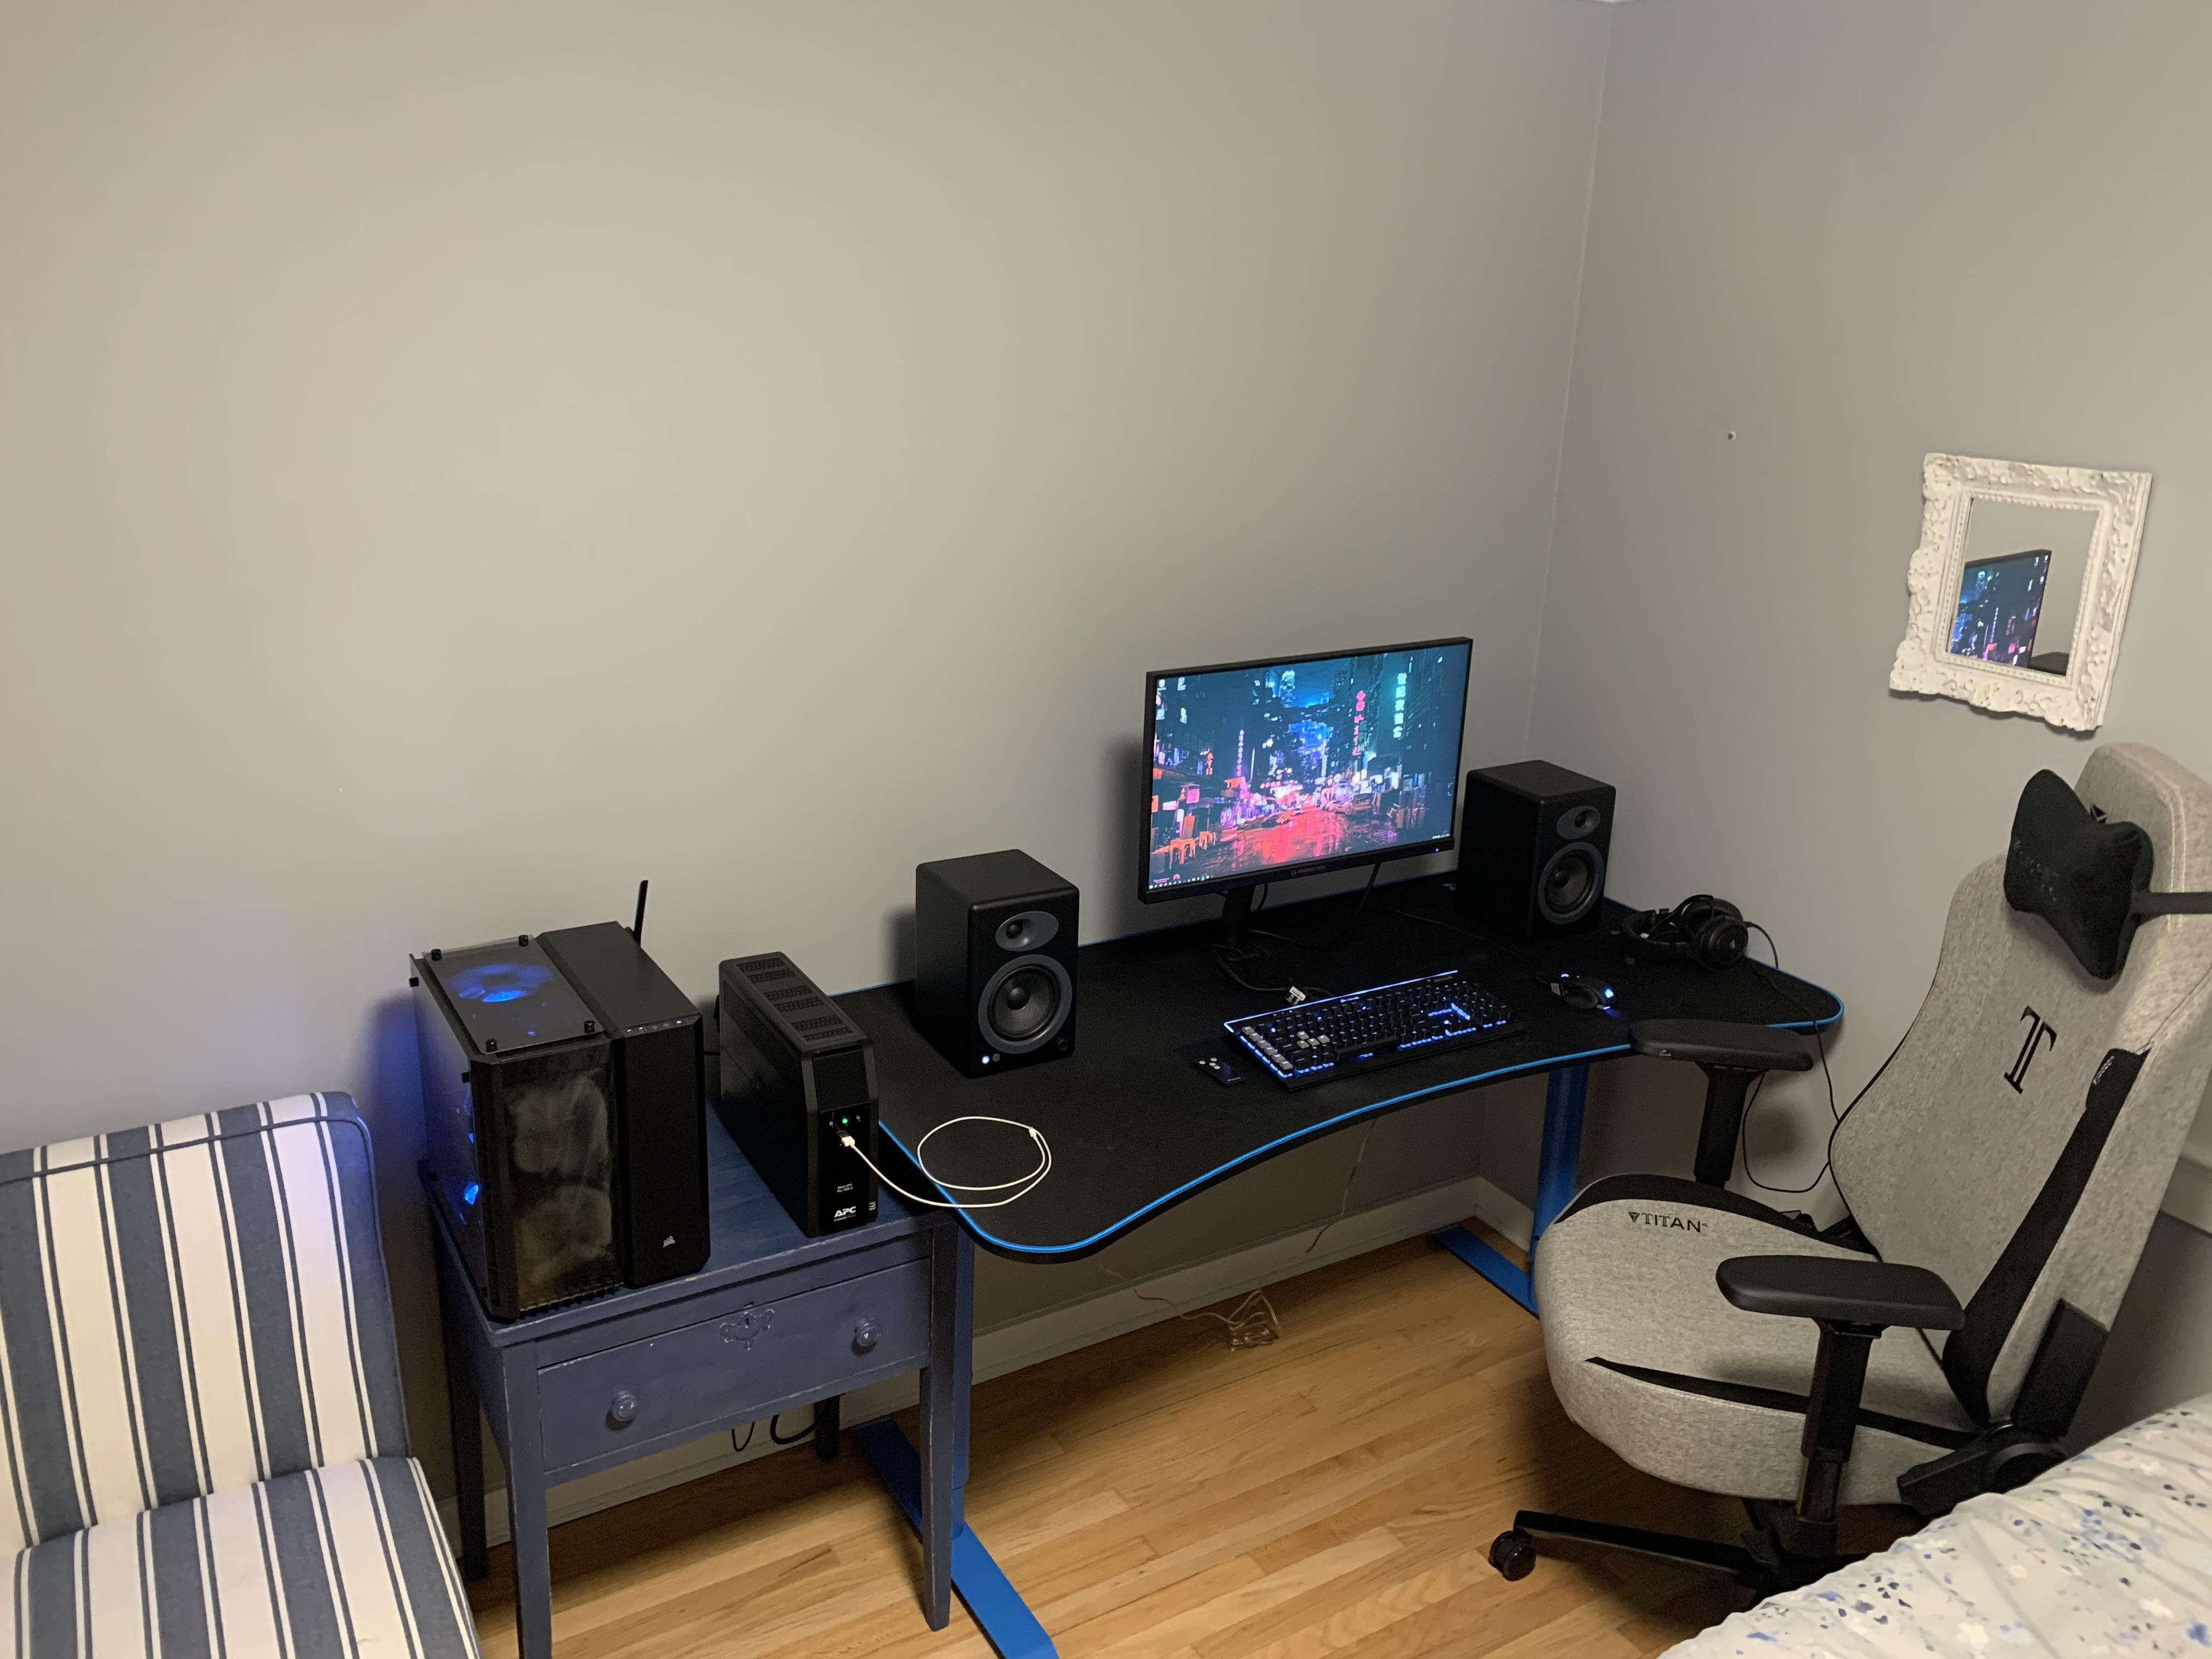Back-UPS: (704, 932, 895, 1232)
Cellphone Charger (Generic): (845, 1114, 1069, 1232)
Chair (Gaming): (1487, 749, 2207, 1596)
Decoration (Generic): (1881, 448, 2156, 746)
Desk (Generic): (815, 861, 1843, 1659)
Desktop (Generic): (409, 920, 714, 1328)
External Speakers (Subwoofers): (916, 856, 1082, 1077), (1456, 758, 1616, 929)
Headphones: (1625, 897, 1782, 965)
Keyboard (Gaming): (1204, 960, 1526, 1093)
Monitor (Landscape): (1130, 631, 1482, 903)
Mouse (Gaming): (1543, 969, 1623, 1014)
